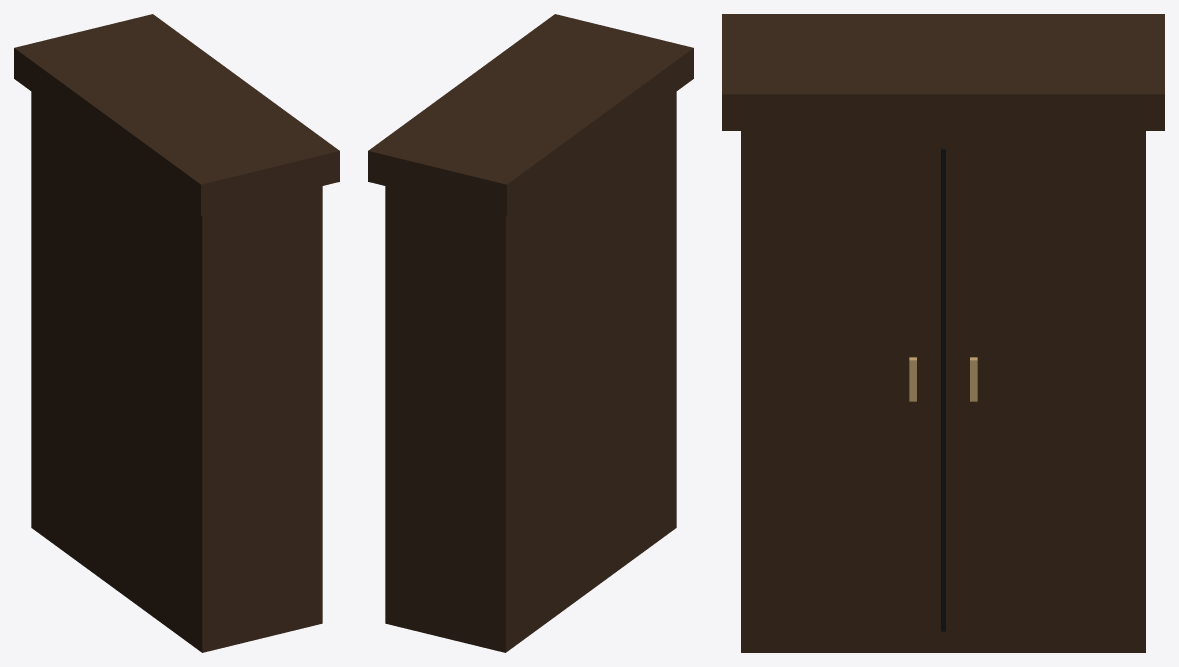
The model's file is SM_Mob_Gardirop.fbx.
3 renders of one model, left to right at view 1: azimuth 30°, elevation 25°; view 2: azimuth 150°, elevation 25°; view 3: azimuth 270°, elevation 25°, orthographic. The views are drawn at different scales.
Parts seen in each view (by area): view 1: Mob_Gardirop; view 2: Mob_Gardirop; view 3: Mob_Gardirop.
Part boxes in pixels (<box>): Mob_Gardirop: <box>14,14,339,652</box>; Mob_Gardirop: <box>368,14,693,652</box>; Mob_Gardirop: <box>722,14,1164,652</box>.
Bounding box in the file's own units: 75 × 246 × 175.
